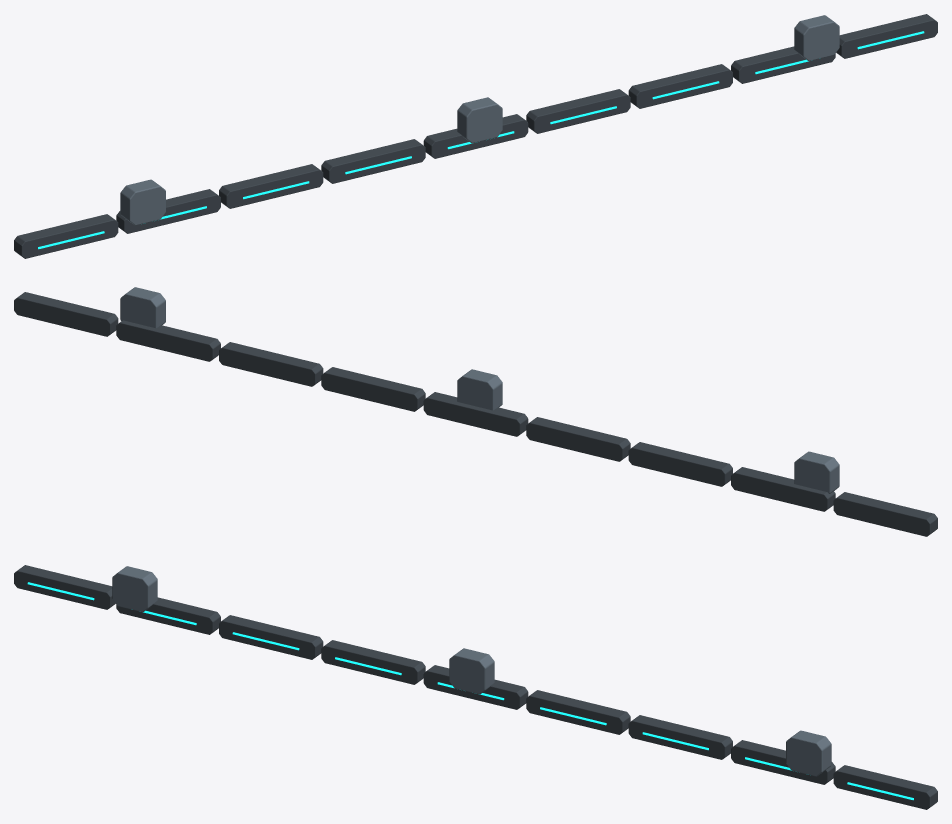
Rendered from FZH_Project_Rail.glb.
The picture shows the model from 3 angles, top to bottom: view 1: azimuth 30°, elevation 25°; view 2: azimuth 150°, elevation 25°; view 3: azimuth 330°, elevation 25°; orthographic projection.
Parts seen in each view (by area): view 1: Rail_Segments, Dock_01, Dock_02, Dock_03, Rail_Data_Trace; view 2: Rail_Segments, Dock_01, Dock_03, Dock_02; view 3: Rail_Segments, Dock_03, Dock_01, Dock_02, Rail_Data_Trace.
Boxes of the visible parts, x1,y1,x2,y2 form: Rail_Segments: [14, 14, 937, 258]; Dock_01: [120, 179, 165, 225]; Dock_02: [457, 97, 502, 143]; Dock_03: [794, 15, 839, 61]; Rail_Data_Trace: [38, 31, 924, 249]; Rail_Segments: [14, 292, 937, 536]; Dock_01: [794, 451, 839, 493]; Dock_03: [120, 287, 165, 328]; Dock_02: [457, 369, 502, 410]; Rail_Segments: [14, 565, 937, 809]; Dock_03: [786, 730, 831, 776]; Dock_01: [112, 566, 157, 612]; Dock_02: [449, 648, 494, 694]; Rail_Data_Trace: [27, 582, 913, 800].
Bounding box in the file's own units: 6.53 × 0.305 × 0.16.
